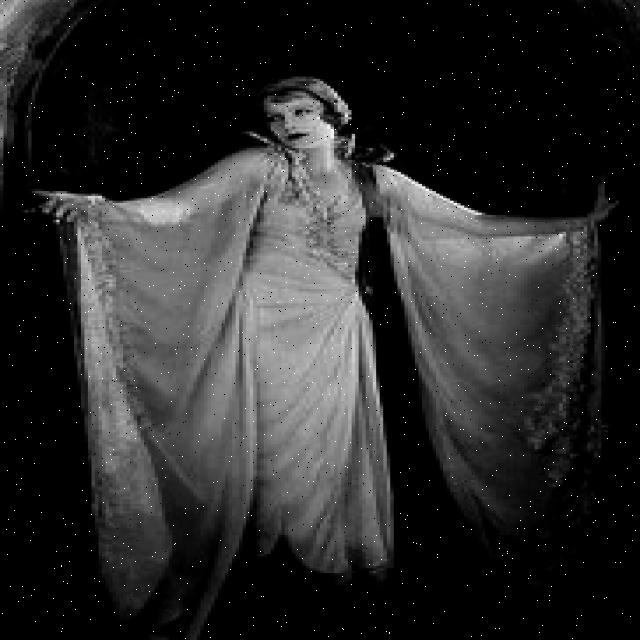picture: (24, 44, 623, 618)
